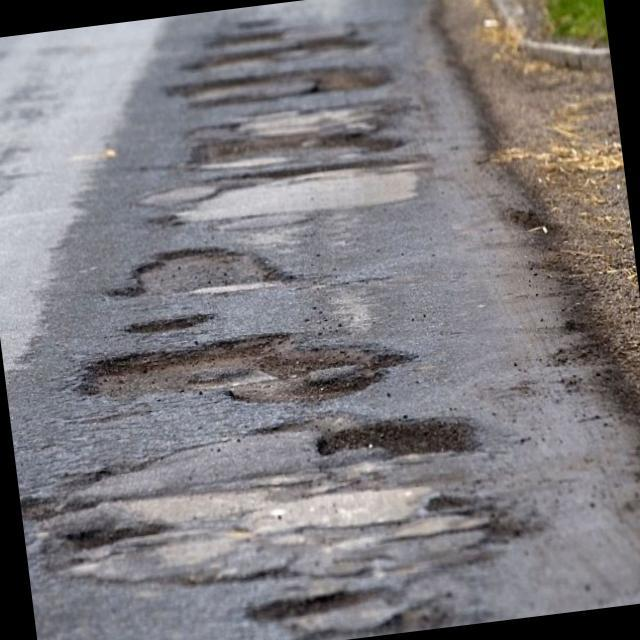Pothole: (27, 425, 592, 640), (66, 304, 434, 441), (136, 133, 486, 243), (79, 220, 338, 328), (274, 376, 502, 479), (170, 98, 436, 178), (164, 46, 415, 130), (193, 31, 390, 78), (196, 12, 320, 60), (108, 306, 247, 344)
